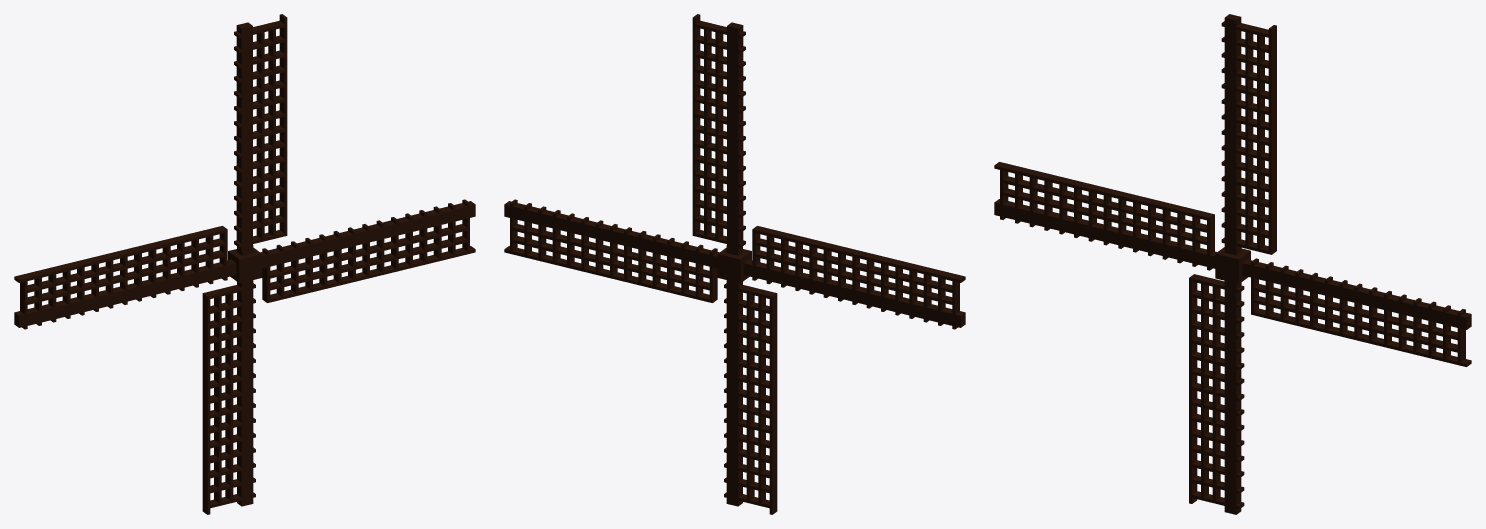
Rendered from mill.obj.
The picture shows the model from 3 angles, left to right: view 1: azimuth 30°, elevation 25°; view 2: azimuth 150°, elevation 25°; view 3: azimuth 330°, elevation 25°; orthographic projection. The views are drawn at different scales.
Parts seen in each view (by area): view 1: Plane; view 2: Plane; view 3: Plane.
Part boxes in pixels (x1=…): Plane: x1=14, y1=14, x2=475, y2=514; Plane: x1=504, y1=14, x2=965, y2=514; Plane: x1=994, y1=14, x2=1471, y2=514.
Bounding box in the file's own units: 15.99 × 15.99 × 0.7.
